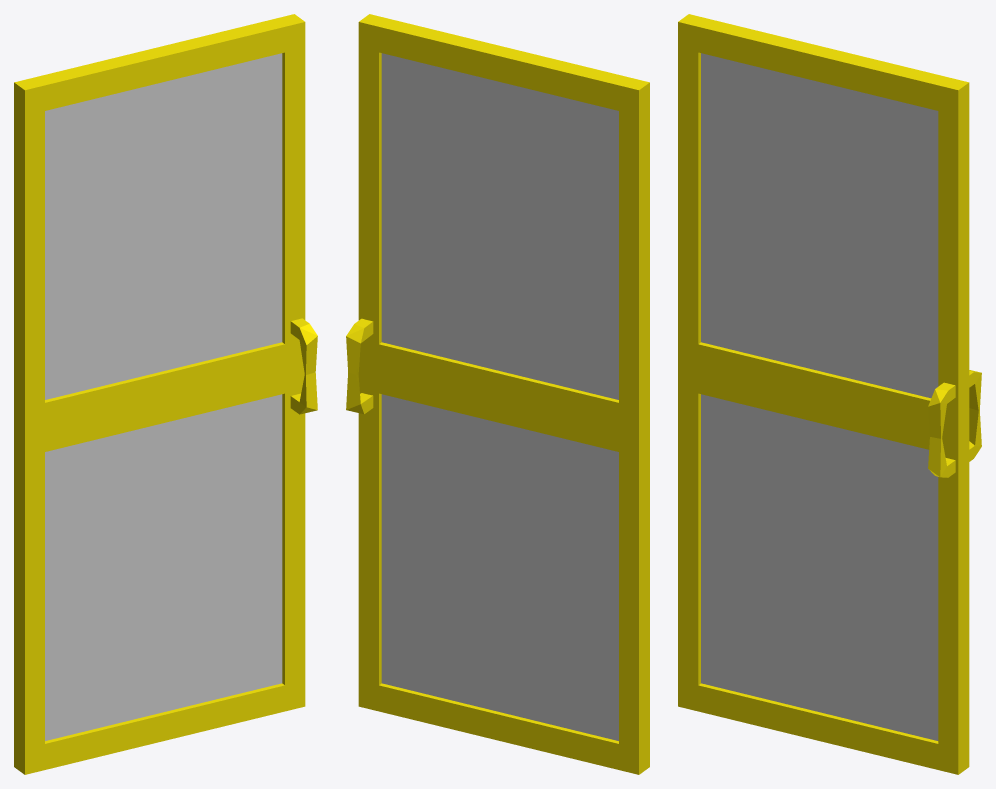
The model's file is Storefront Door - Gold.glb.
3 views of the same model, side by side, from view 1: azimuth 30°, elevation 25°; view 2: azimuth 150°, elevation 25°; view 3: azimuth 330°, elevation 25° (orthographic).
Parts seen in each view (by area): view 1: Windows, Door, Handle; view 2: Windows, Door, Handle; view 3: Windows, Door, Handle.
Part boxes in pixels (<box>): Windows: <box>45,53,282,740</box>; Door: <box>14,14,305,774</box>; Handle: <box>290,318,317,414</box>; Windows: <box>381,53,618,740</box>; Door: <box>358,14,649,774</box>; Handle: <box>346,318,373,414</box>; Windows: <box>701,53,938,740</box>; Door: <box>678,14,969,774</box>; Handle: <box>928,370,981,477</box>.
Size of the model in its own units: 0.9144 by 2.13 by 0.2379.
